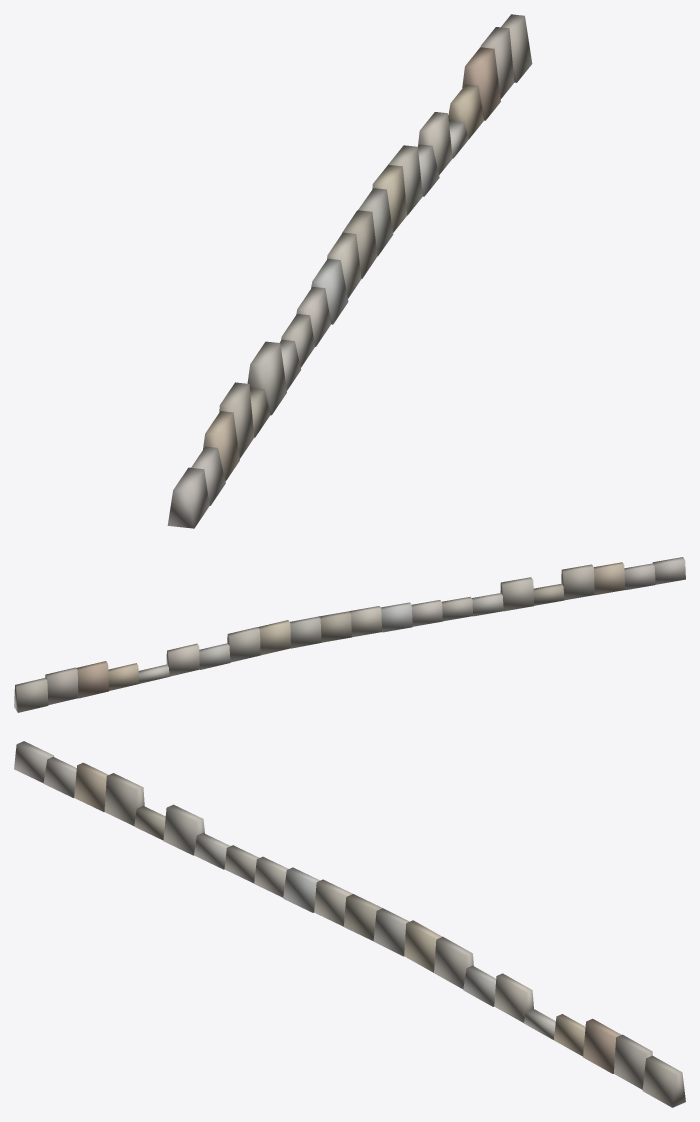
Rendered from farm_-30_-22_collision.glb.
The picture shows the model from 3 angles, top to bottom: view 1: azimuth 30°, elevation 25°; view 2: azimuth 150°, elevation 25°; view 3: azimuth 270°, elevation 25°; orthographic projection. The views are drawn at different scales.
Visible parts, largest first — view 1: geometry_0; view 2: geometry_0; view 3: geometry_0.
Boxes of the visible parts, x1=… form: geometry_0: x1=167, y1=14, x2=532, y2=528; geometry_0: x1=14, y1=557, x2=685, y2=712; geometry_0: x1=14, y1=741, x2=685, y2=1107.
Size of the model in its own units: 24.85 by 4.13 by 25.67.
